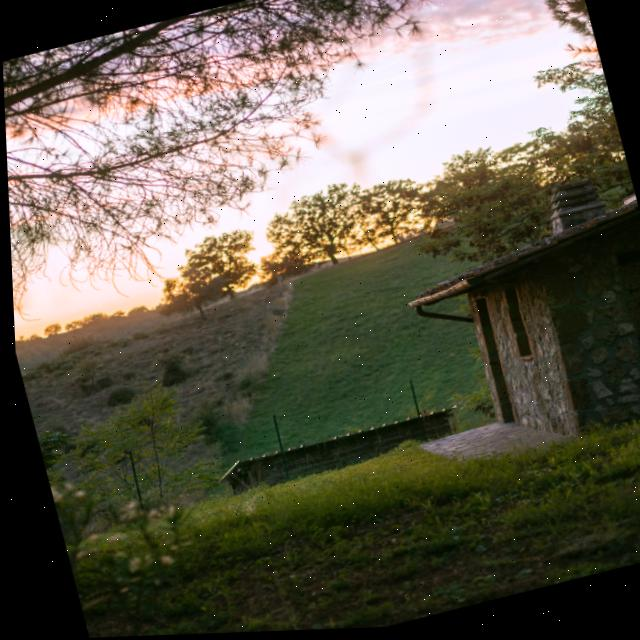building: (397, 196, 640, 463), (211, 403, 466, 493)
